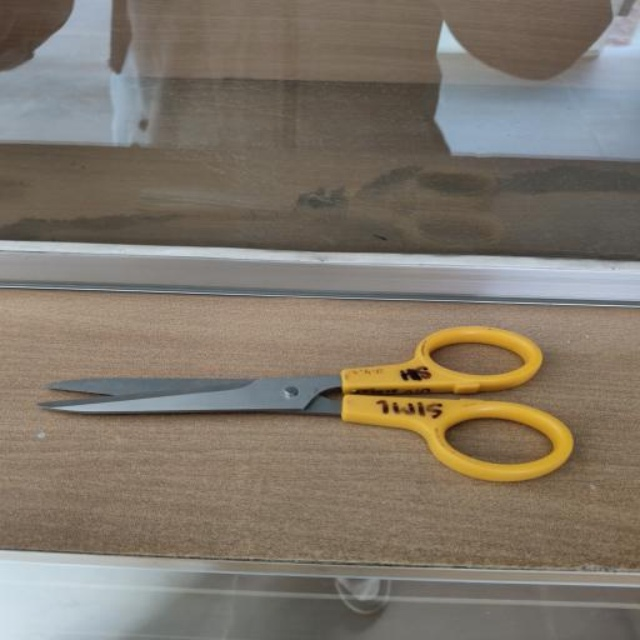scissor: (38, 324, 580, 484)
